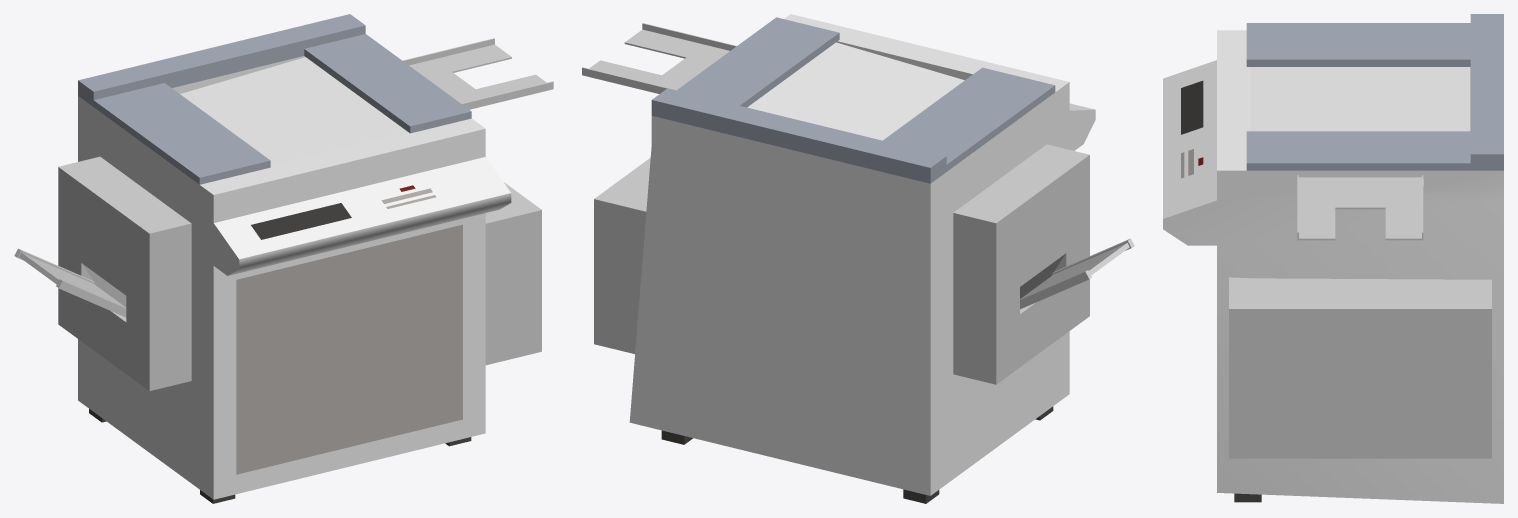
3 views of the same model, side by side, from view 1: azimuth 30°, elevation 25°; view 2: azimuth 150°, elevation 25°; view 3: azimuth 270°, elevation 25° (orthographic). The views are drawn at different scales.
Parts seen in each view (by area): view 1: bigdayinji:polySurface435; view 2: bigdayinji:polySurface435; view 3: bigdayinji:polySurface435.
Part boxes in pixels (x1,y1,x2,y2): bigdayinji:polySurface435: (14, 14, 553, 503); bigdayinji:polySurface435: (582, 14, 1134, 503); bigdayinji:polySurface435: (1163, 14, 1503, 503).
Size of the model in its own units: 168 by 109 by 96.14.
